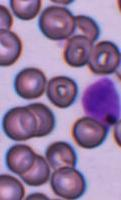L: (81, 74, 121, 123)
